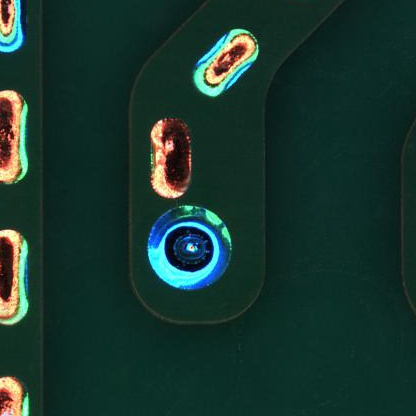spot: (137, 200, 251, 294)
